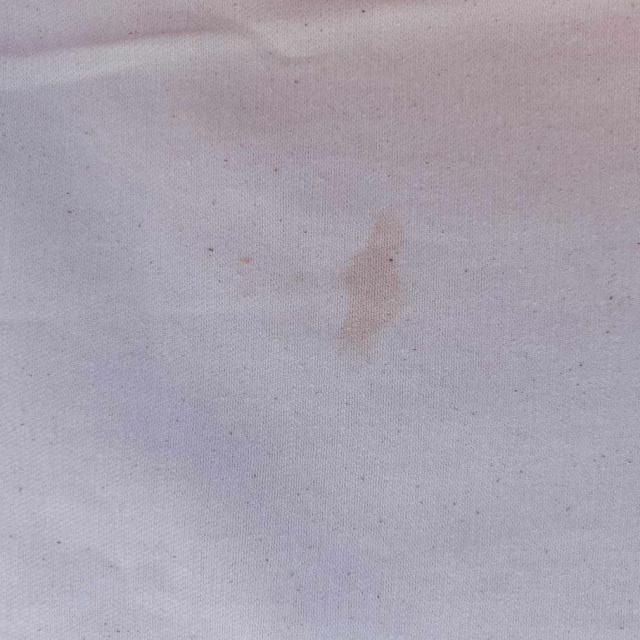taaaches: (307, 199, 447, 361)
